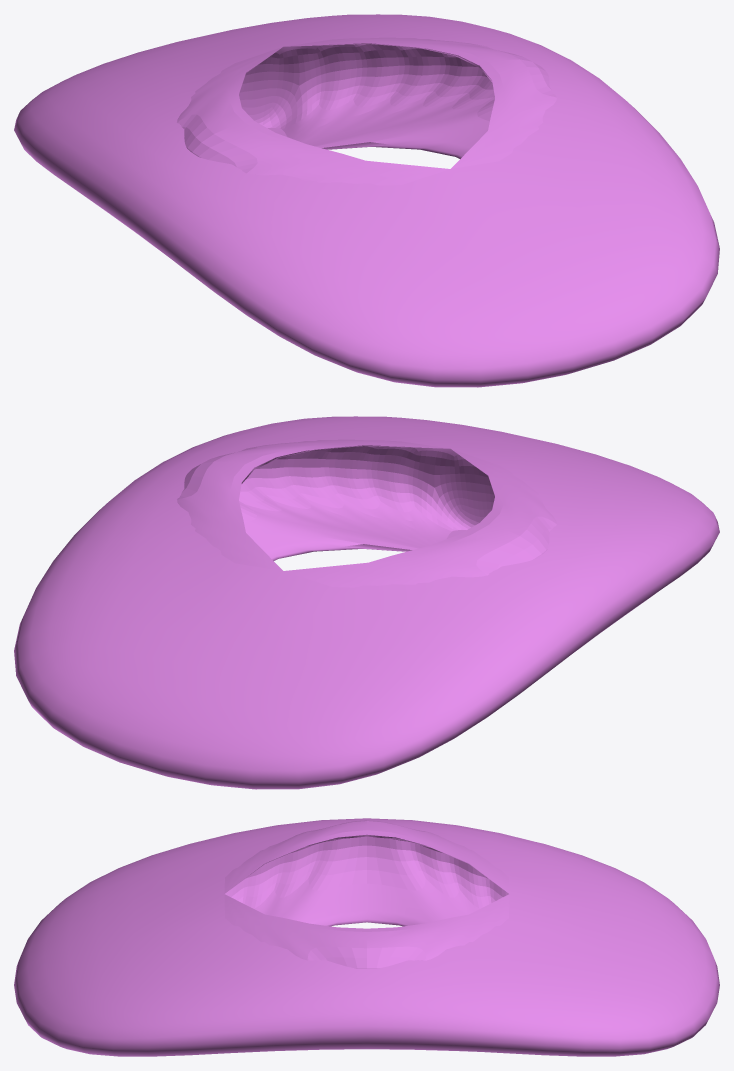
3 views of the same model, one above another, from view 1: azimuth 30°, elevation 25°; view 2: azimuth 150°, elevation 25°; view 3: azimuth 270°, elevation 25° (orthographic). The views are drawn at different scales.
Parts seen in each view (by area): view 1: Cube; view 2: Cube; view 3: Cube.
Part boxes in pixels (x1,y1,x2,y2): Cube: (14, 14, 719, 387); Cube: (14, 416, 719, 789); Cube: (14, 818, 719, 1056).
Bounding box in the file's own units: 162 × 44.96 × 239.
